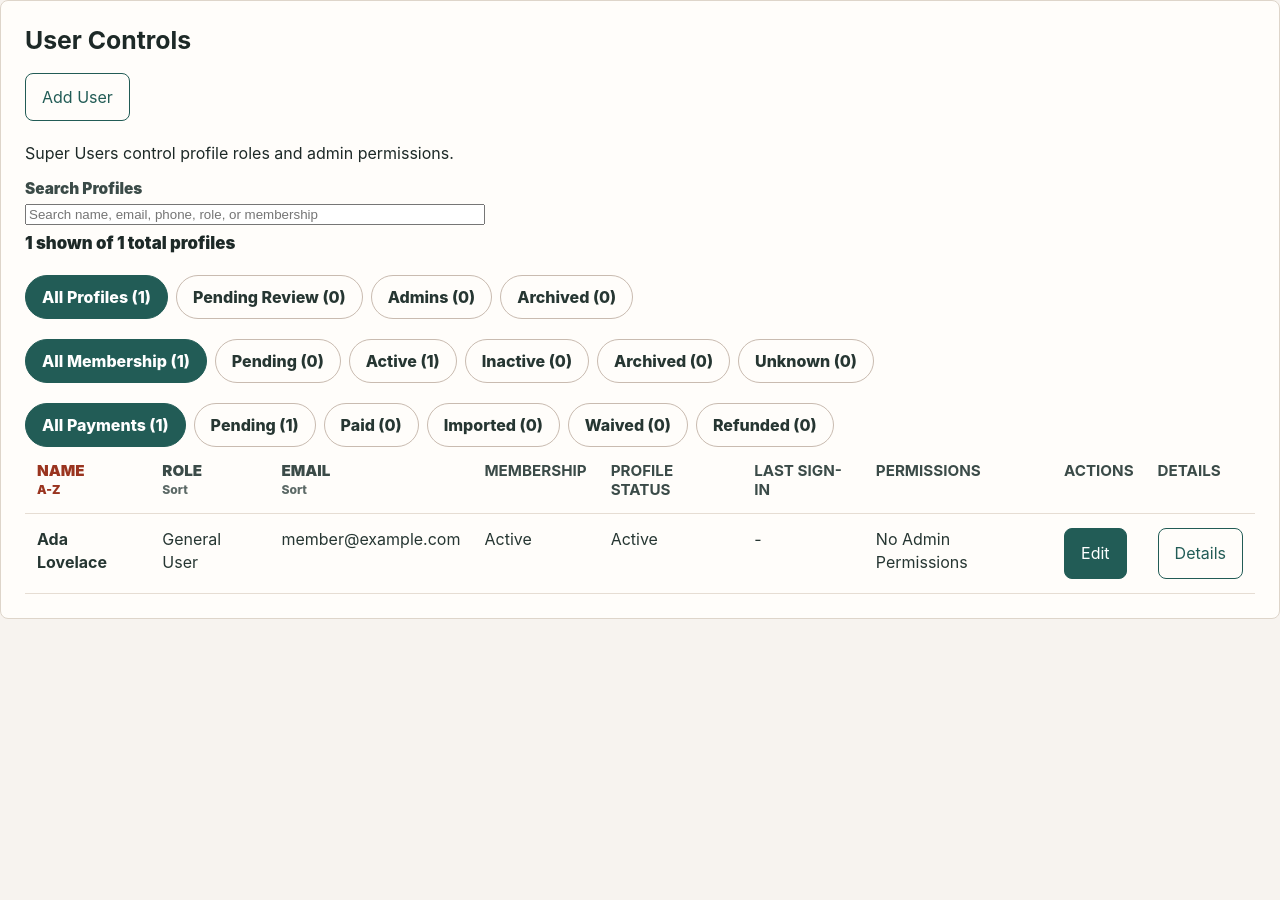
a Super User granting admin permissions to a member › leaves the checkboxes locked while the member is still a General User
Click the button "Edit" at (1095, 554), box [1064,528,1126,579]
(page scrolled)
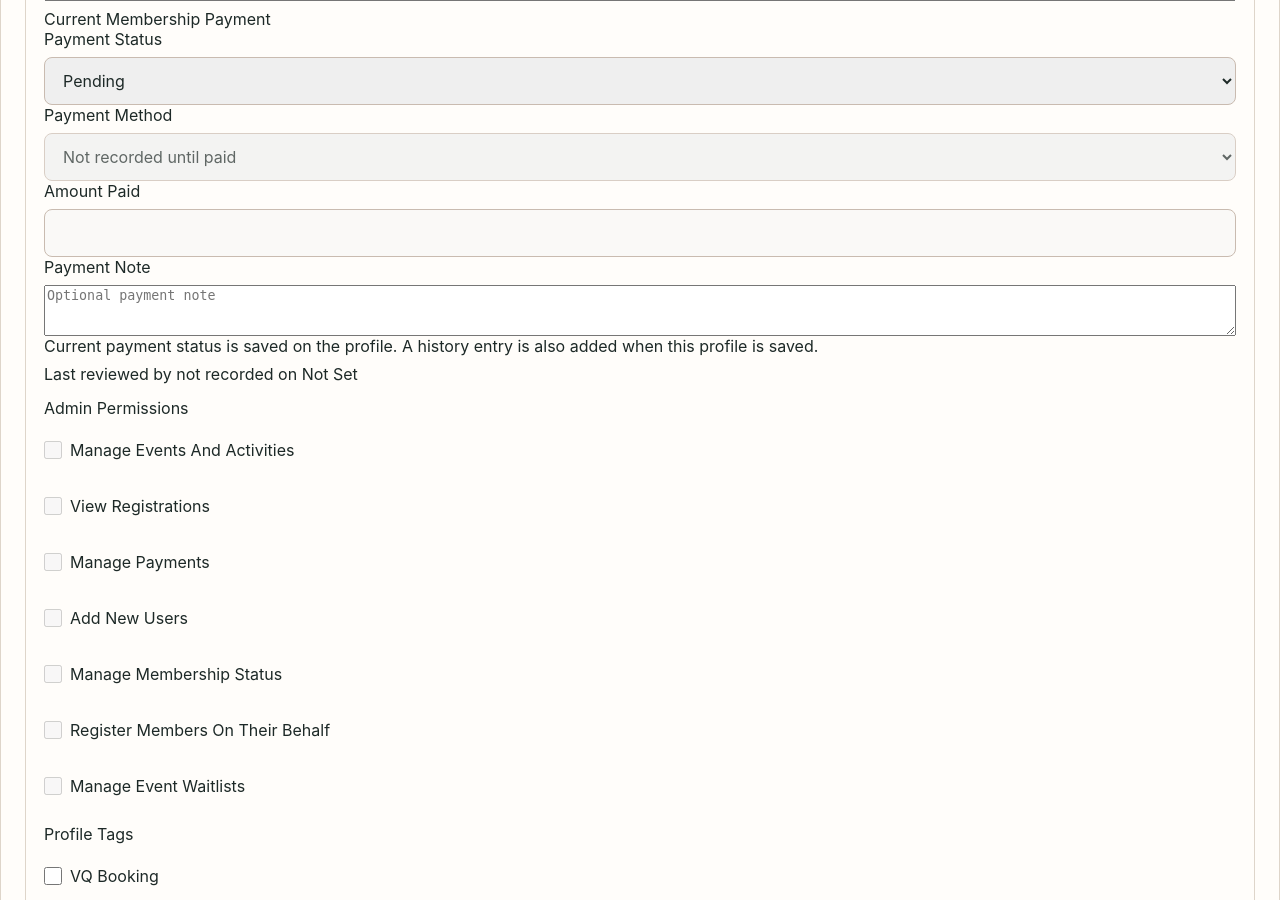
Expected: the checkbox labelled "Manage Events And Activities" is disabled, [44,426,62,474]
